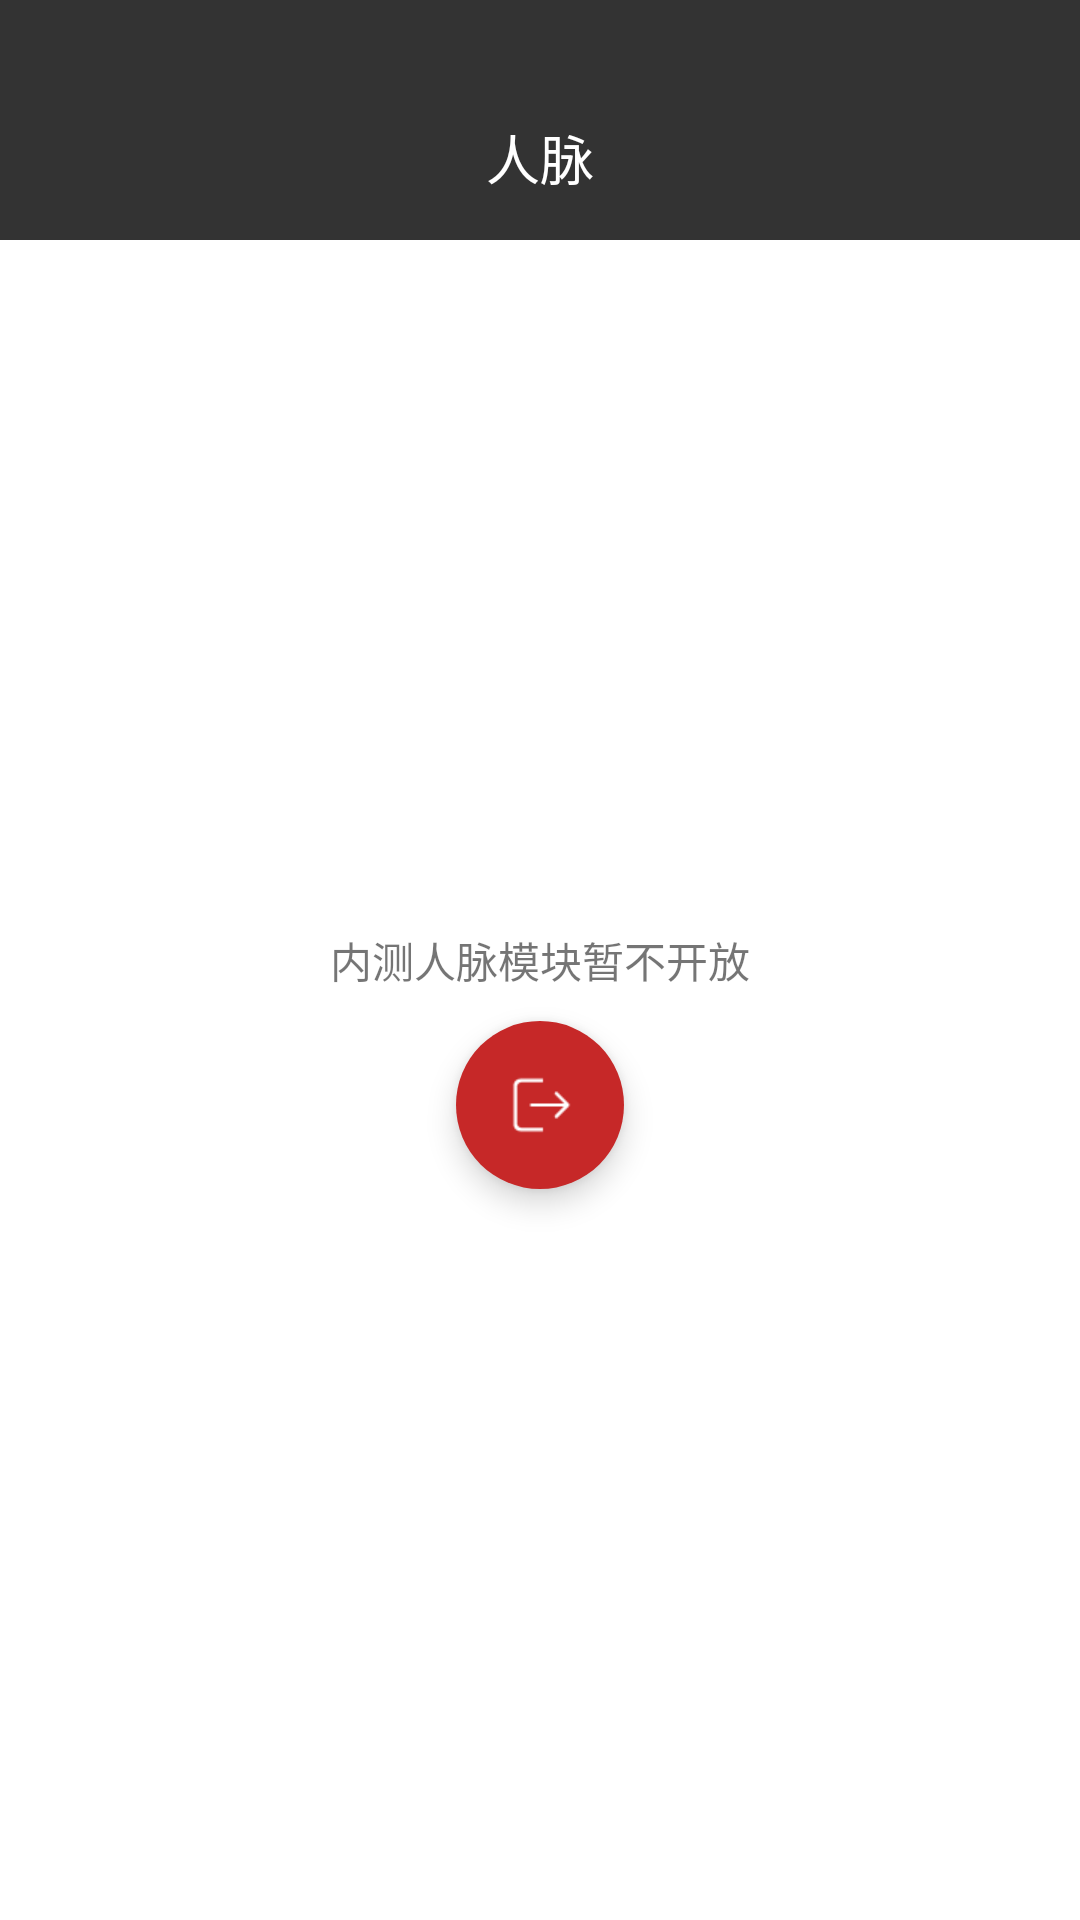

Icon bounding boxes for this 1080×1920 phone screenshot, format {"left": x1, "top": y1, "right": x2, "bottom": y2}:
out app: {"left": 456, "top": 1021, "right": 624, "bottom": 1189}
